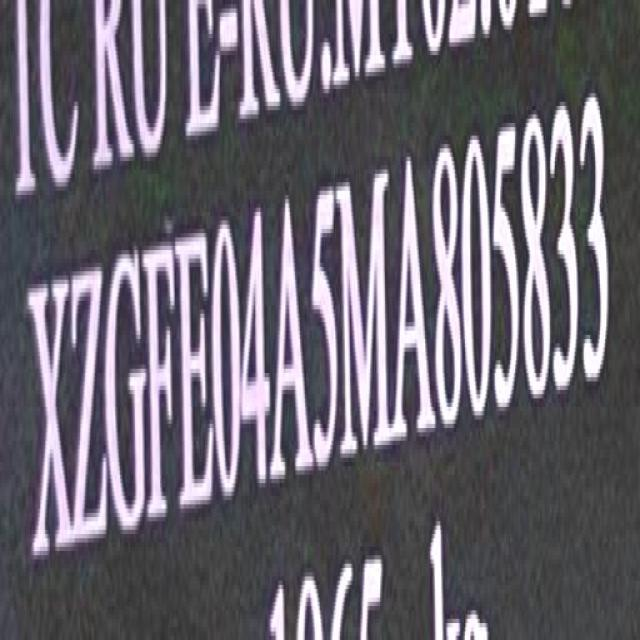0: (460, 132, 493, 432), (208, 221, 242, 496)
3: (545, 94, 581, 411), (578, 90, 612, 403)
4: (240, 206, 271, 496)
5: (311, 183, 340, 472), (491, 115, 518, 418)
8: (430, 143, 464, 441), (518, 116, 552, 410)
A: (391, 146, 438, 438), (270, 198, 316, 477)
E: (174, 228, 215, 518)
F: (138, 243, 178, 520)
G: (101, 250, 148, 532)
M: (335, 168, 393, 454)
X: (25, 275, 75, 559)
Z: (67, 268, 109, 545)
